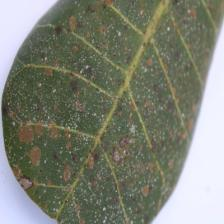red rust: (2, 0, 223, 223)
